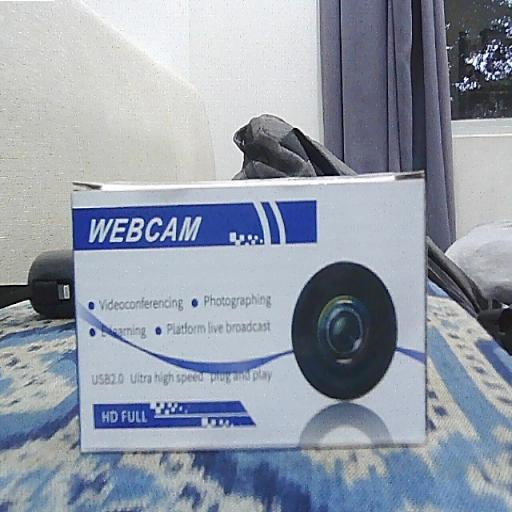webcam_box: (73, 175, 426, 452)
